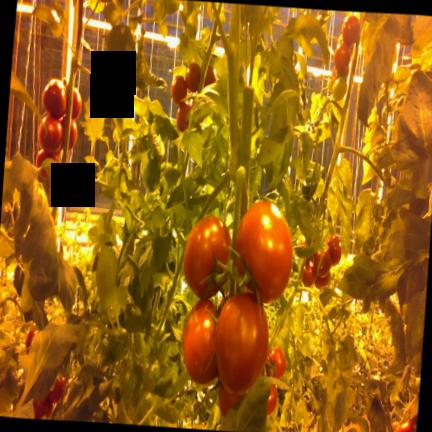MainStem: (314, 12, 365, 221), (51, 0, 83, 220), (227, 2, 253, 216), (267, 258, 306, 355), (197, 19, 217, 91)
tomato: (235, 201, 292, 302), (215, 292, 268, 394), (183, 215, 231, 297), (182, 299, 218, 384), (42, 78, 66, 118), (38, 114, 62, 153), (218, 384, 242, 415), (59, 115, 77, 149), (266, 346, 285, 378), (333, 41, 350, 73), (342, 15, 359, 45), (313, 250, 331, 276), (176, 101, 191, 131), (170, 75, 186, 103), (33, 396, 53, 418), (326, 235, 341, 264), (185, 62, 200, 91), (47, 379, 64, 403), (35, 148, 55, 167), (301, 259, 314, 286), (332, 76, 346, 101), (266, 384, 277, 414), (71, 87, 81, 119), (203, 65, 216, 86), (314, 271, 329, 287), (25, 325, 35, 348), (394, 420, 413, 432), (39, 164, 48, 178), (326, 78, 334, 90), (342, 66, 348, 78), (349, 44, 353, 53)
